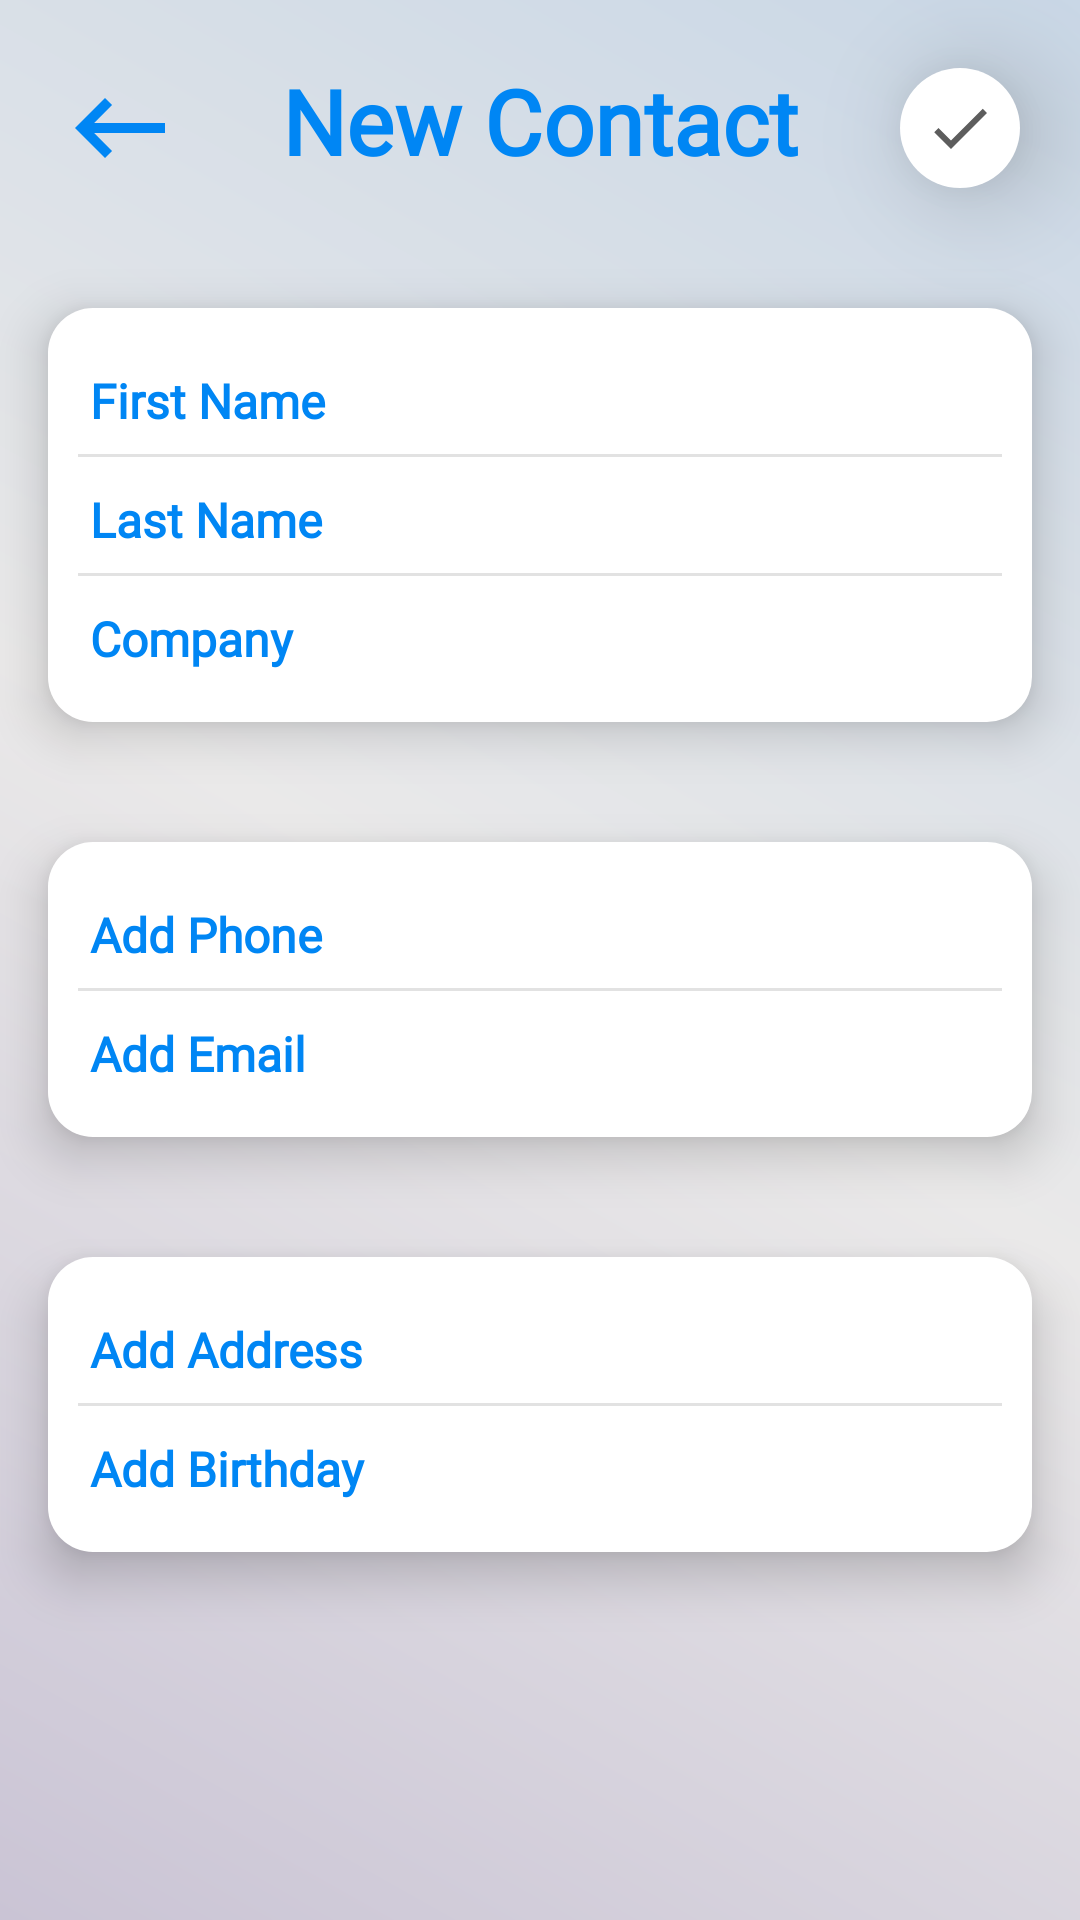

Screen size 1080px x 1920px. Icon name, then its box in pixels as (x1, y1, x2, y2):
back: (75, 98, 165, 158)
done not completed: (900, 68, 1020, 188)
